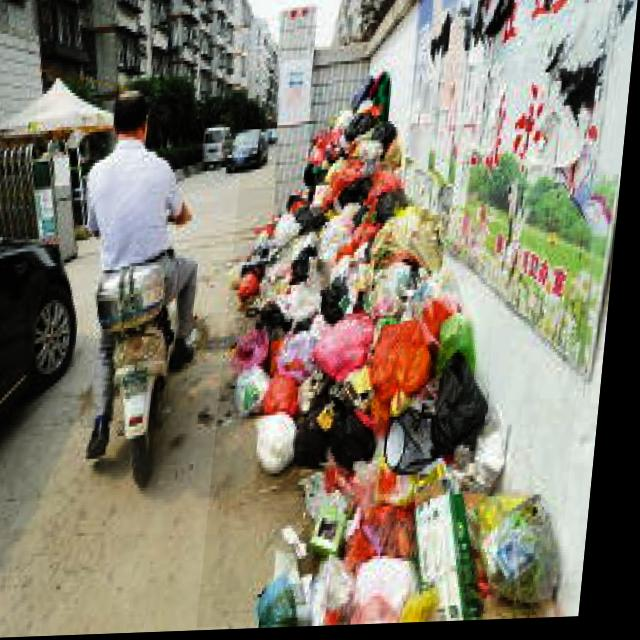garbage: (210, 62, 611, 629)
